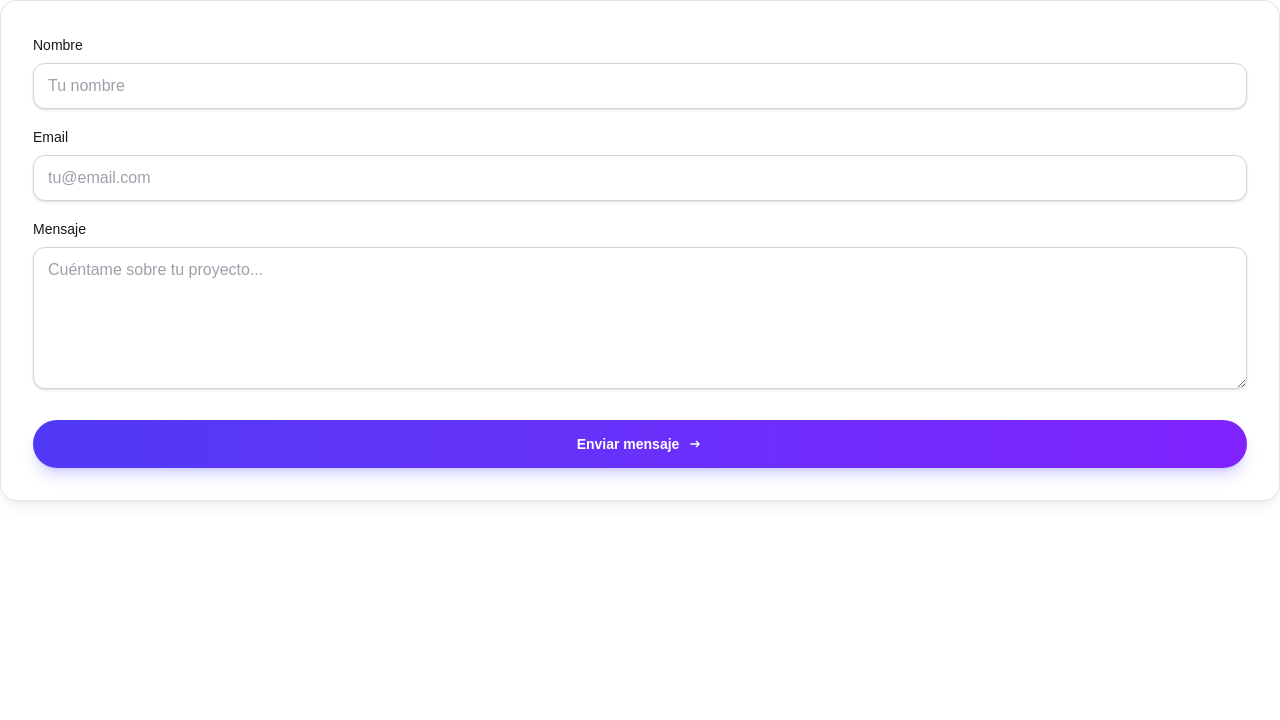
it: ContactForm › muestra error si el correo no es válido
Type "Ana" into the field labelled "Nombre".
click(640, 86); type("Ana")  # box [33,63,1247,109]
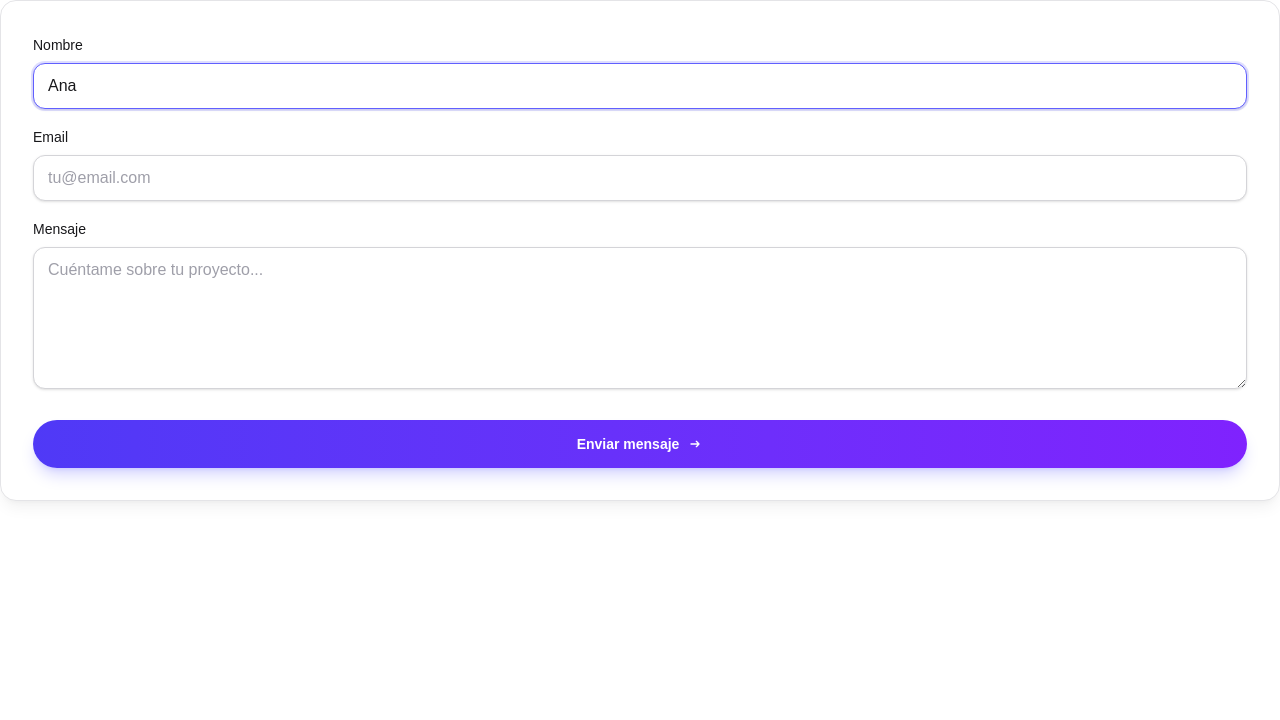
Type "correo-invalido" into the field labelled "Email".
click(640, 178); type("correo-invalido")  # box [33,155,1247,201]
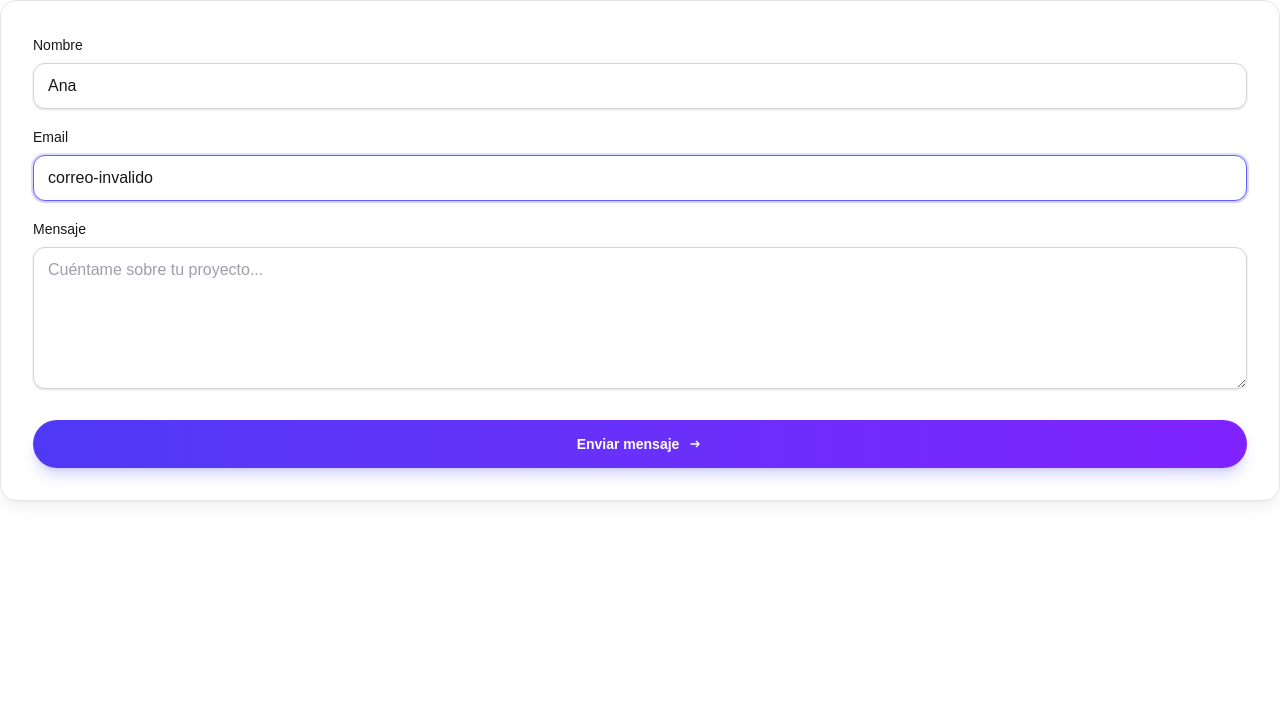
Type "Hola" into the text box labelled "Mensaje".
click(640, 318); type("Hola")  # box [33,247,1247,389]
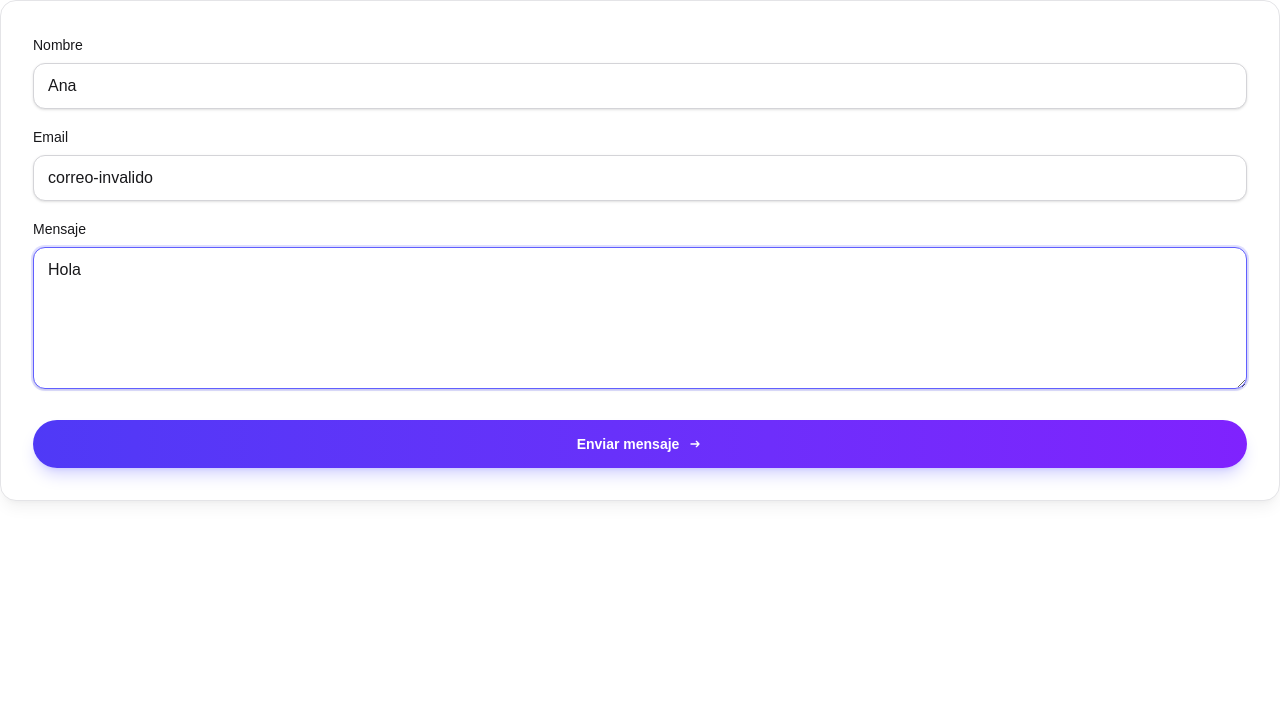
Click the button "Enviar mensaje".
click(640, 444)  # box [33,420,1247,468]
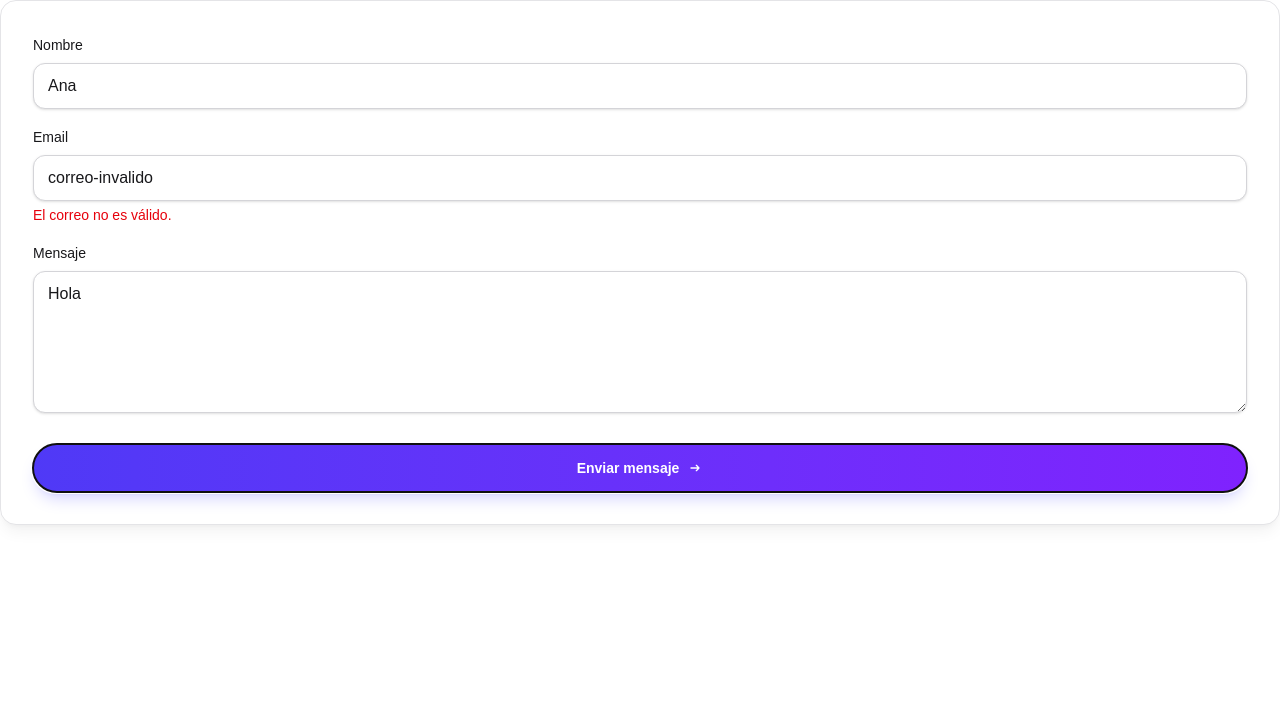
Expected: the text "El correo no es válido." is shown, [33,207,172,223]
